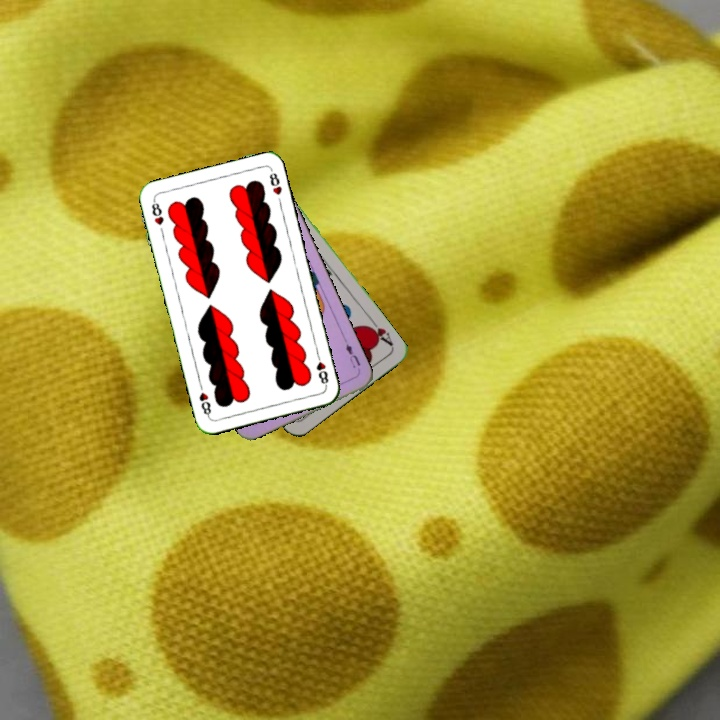EU: (340, 336, 363, 371)
H8: (312, 349, 331, 389), (147, 196, 166, 228)
HA: (362, 314, 395, 349)
